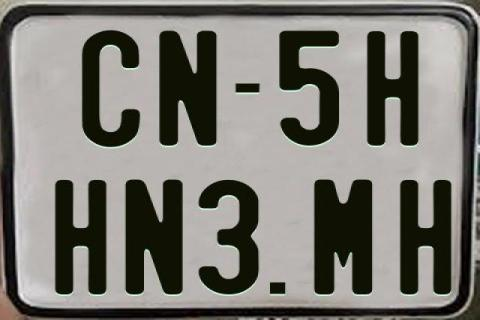0: (276, 28, 342, 145), (197, 178, 258, 294)
C: (79, 28, 137, 146)
H: (53, 179, 109, 297), (367, 29, 422, 148), (398, 178, 450, 294)
M: (313, 177, 372, 293)
N: (156, 29, 216, 144), (125, 179, 184, 295)
